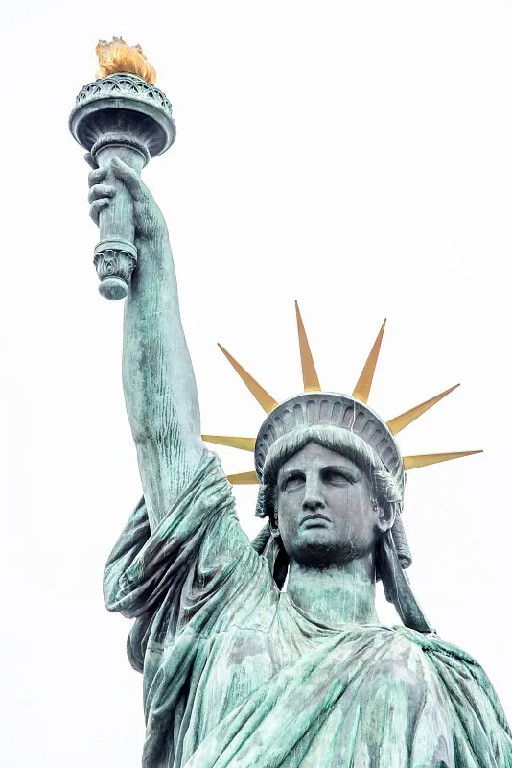SL: (68, 37, 512, 768)
